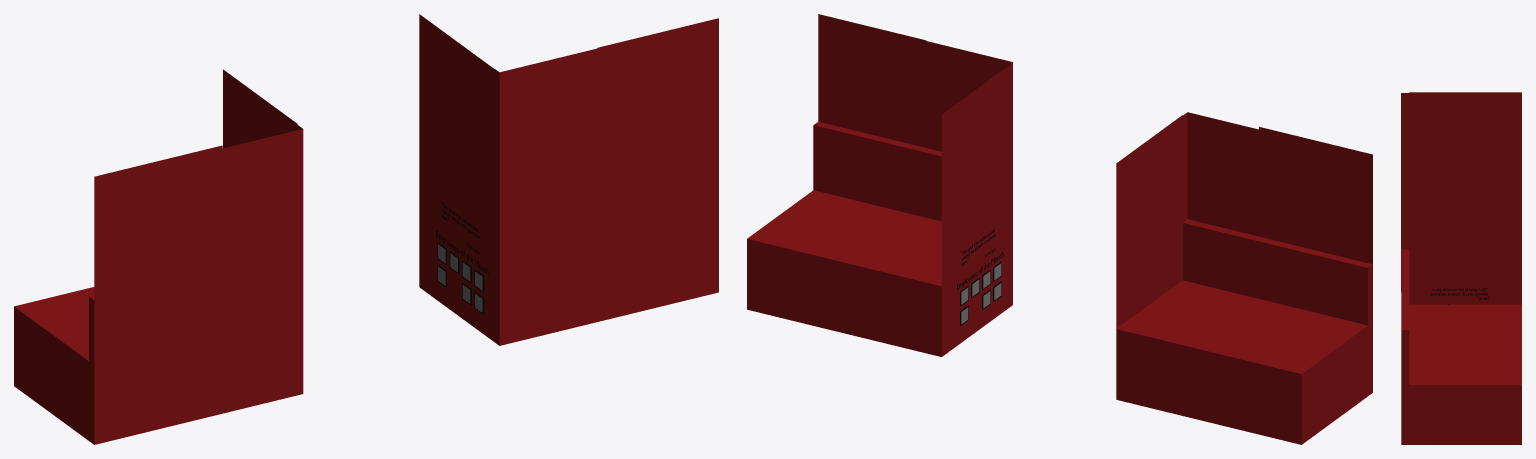
Rendered from sidewalls_vproom 1.fbx.
3 views of the same model, side by side, from view 1: azimuth 30°, elevation 25°; view 2: azimuth 150°, elevation 25°; view 3: azimuth 270°, elevation 25° (orthographic). The views are drawn at different scales.
Parts seen in each view (by area): view 1: Walls; view 2: Walls; view 3: Walls.
Boxes of the visible parts, x1,y1,x2,y2 form: Walls: (14,14,718,444); Walls: (747,14,1372,444); Walls: (1401,92,1521,444).
Bounding box in the file's own units: 60803 × 25511 × 13545.
